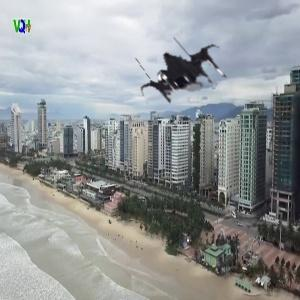drone: (133, 24, 235, 126)
